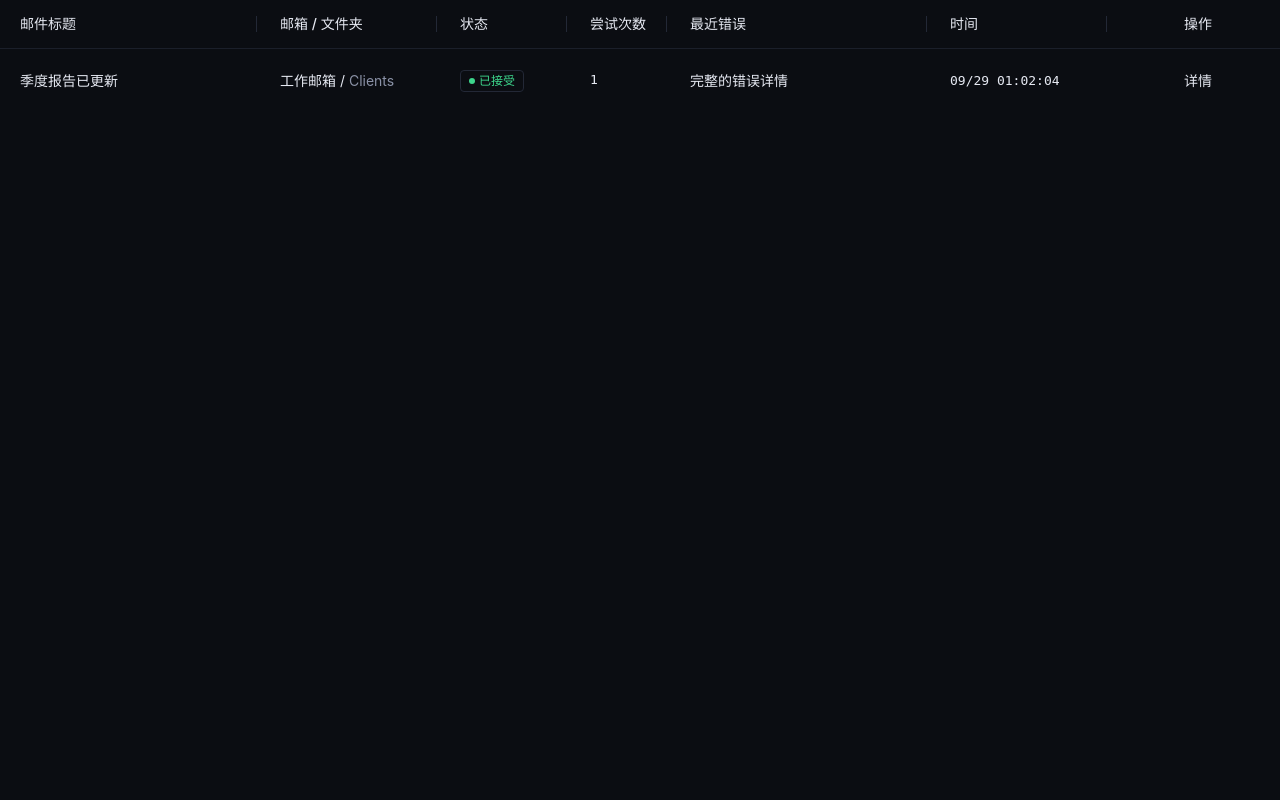
details reveal the full delivery ID, error and device result
Expected: the text "iPhone 17" is not shown
Step 1. Click the button "详情" → [1198, 80], box x1=1172 y1=64 x2=1224 y2=96
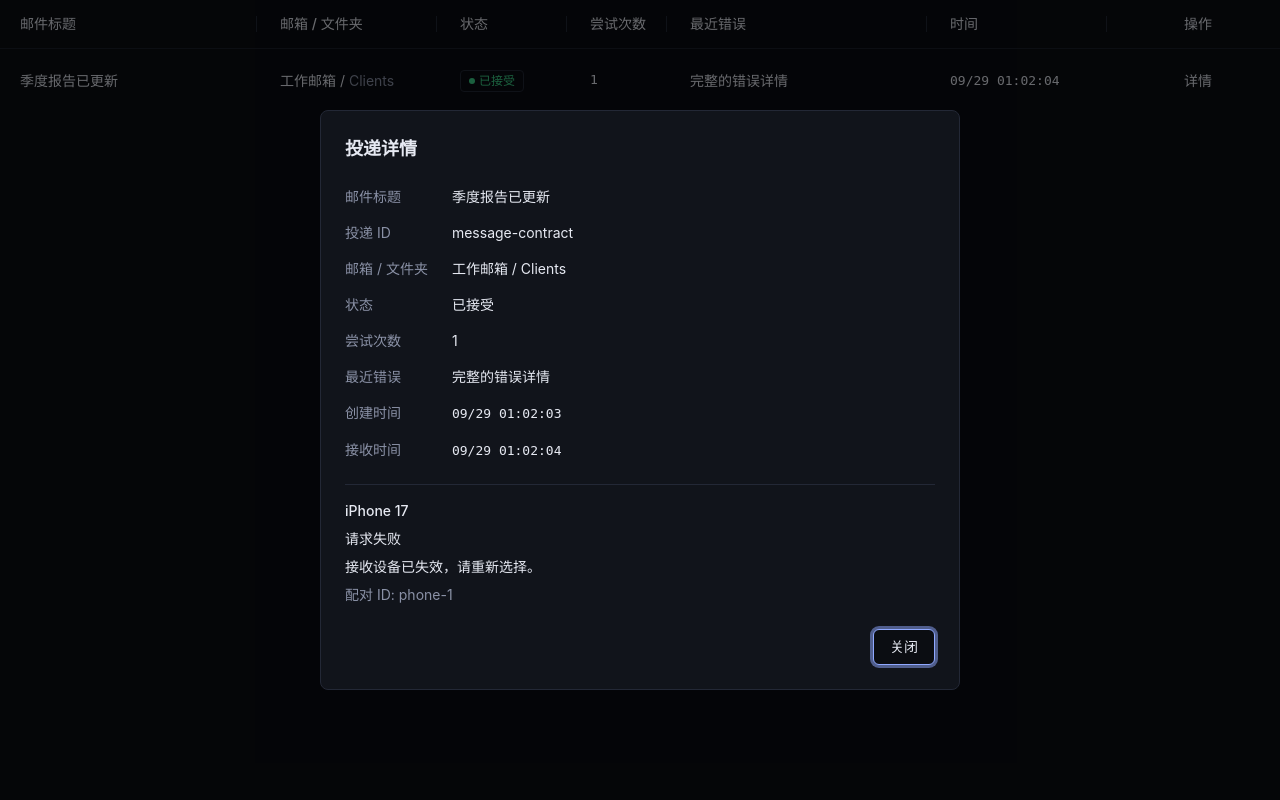
Expected: the text "message-contract" is shown, x1=452 y1=224 x2=573 y2=241
Expected: the text "完整的错误详情" is shown, x1=452 y1=368 x2=550 y2=385
Expected: the heading "iPhone 17" is shown, x1=345 y1=502 x2=409 y2=519
Step 2. Click the button "关闭" → [904, 647], box x1=873 y1=629 x2=935 y2=665
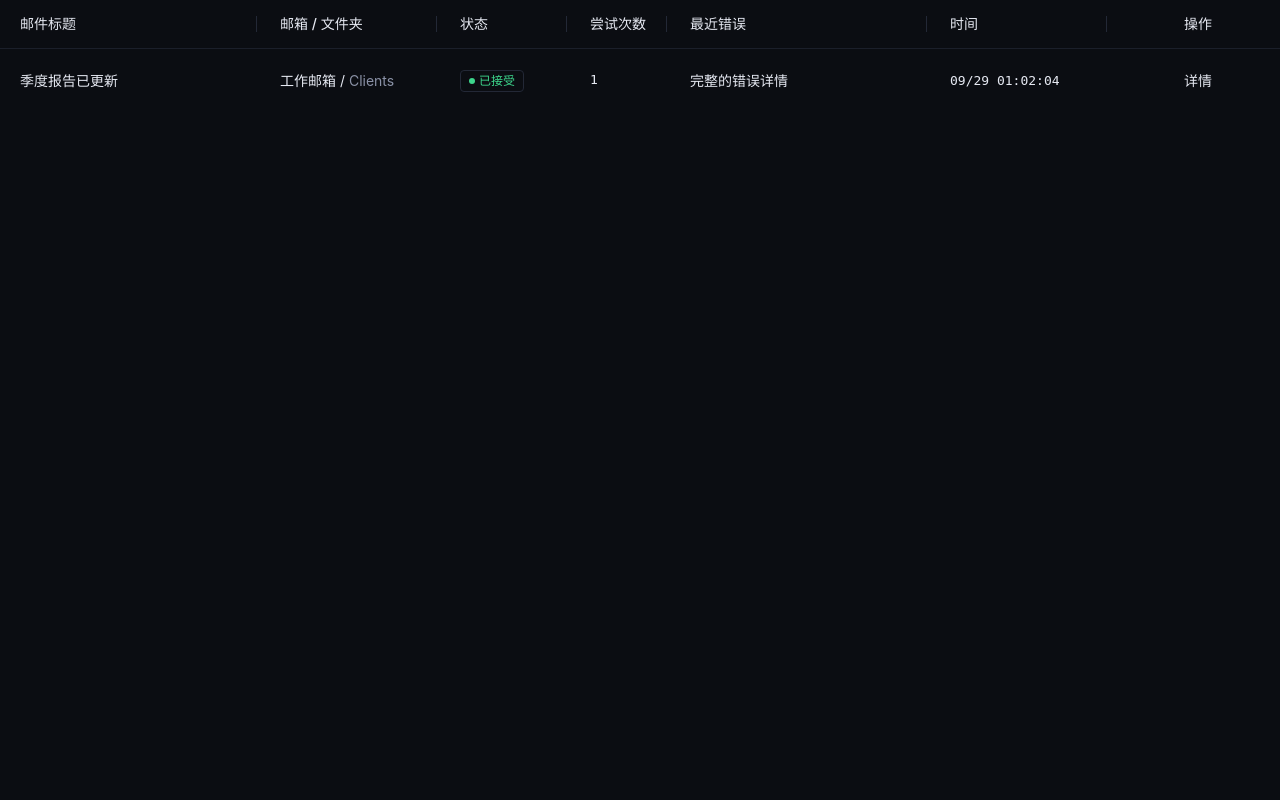
Expected: the dialog is gone
